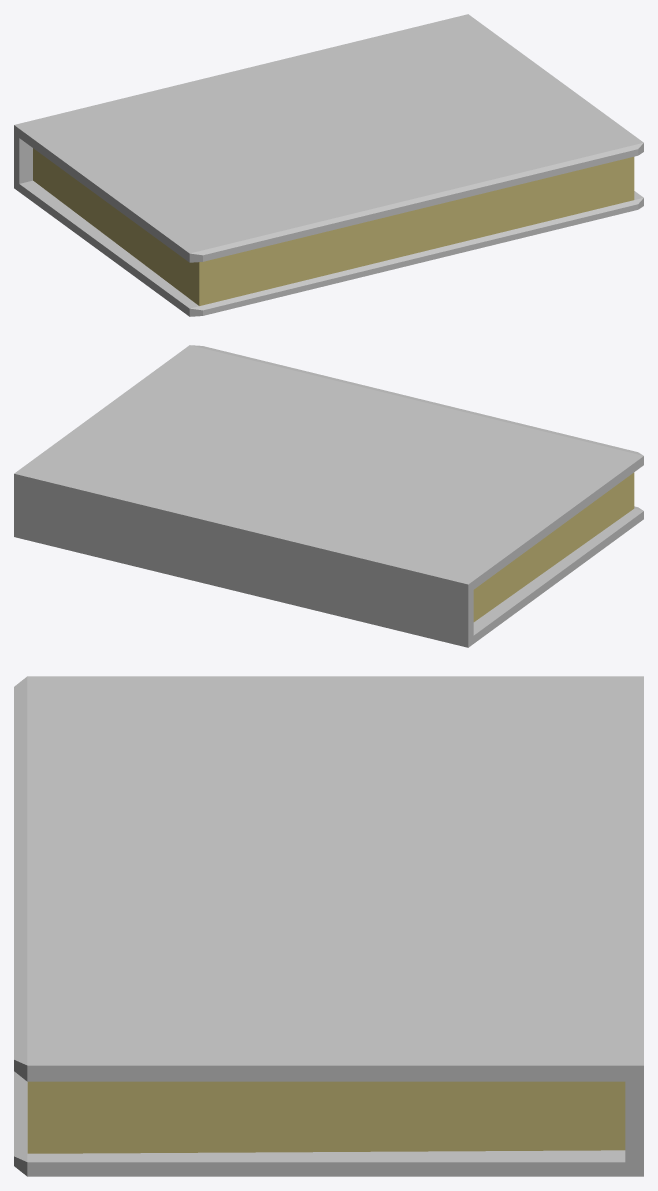
The model's file is Tome_Closed.gltf.
3 renders of one model, top to bottom at view 1: azimuth 30°, elevation 25°; view 2: azimuth 150°, elevation 25°; view 3: azimuth 270°, elevation 25°, orthographic. The views are drawn at different scales.
Parts seen in each view (by area): view 1: Book_Clothbound; view 2: Book_Clothbound; view 3: Book_Clothbound.
Boxes of the visible parts, x1=… form: Book_Clothbound: x1=14, y1=14, x2=643, y2=316; Book_Clothbound: x1=14, y1=345, x2=643, y2=647; Book_Clothbound: x1=14, y1=676, x2=643, y2=1176.
Size of the model in its own units: 2 by 0.2663 by 1.37.
